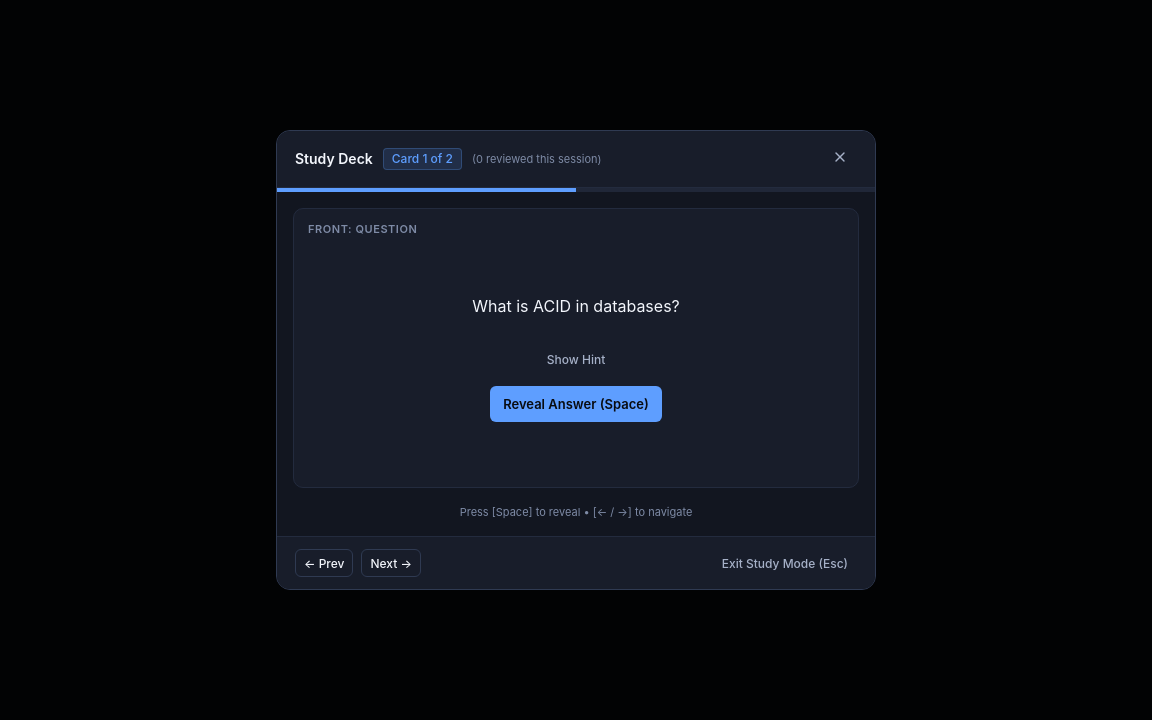
Scenario: Phase 4: Specialized Workspaces Suite › Workspace C: Student Studio & Interactive Flashcard Study Mode › interactively flips flashcards, reveals hints, and rates recall in Study Mode
Check: the text "What is ACID in databases?" is shown, box [472,296,680,316]
Check: the text "Atomicity, Consistency" is not shown
Note: Show hint
Step 1. Click the button "Show Hint" → [576, 360], box [538,346,614,374]
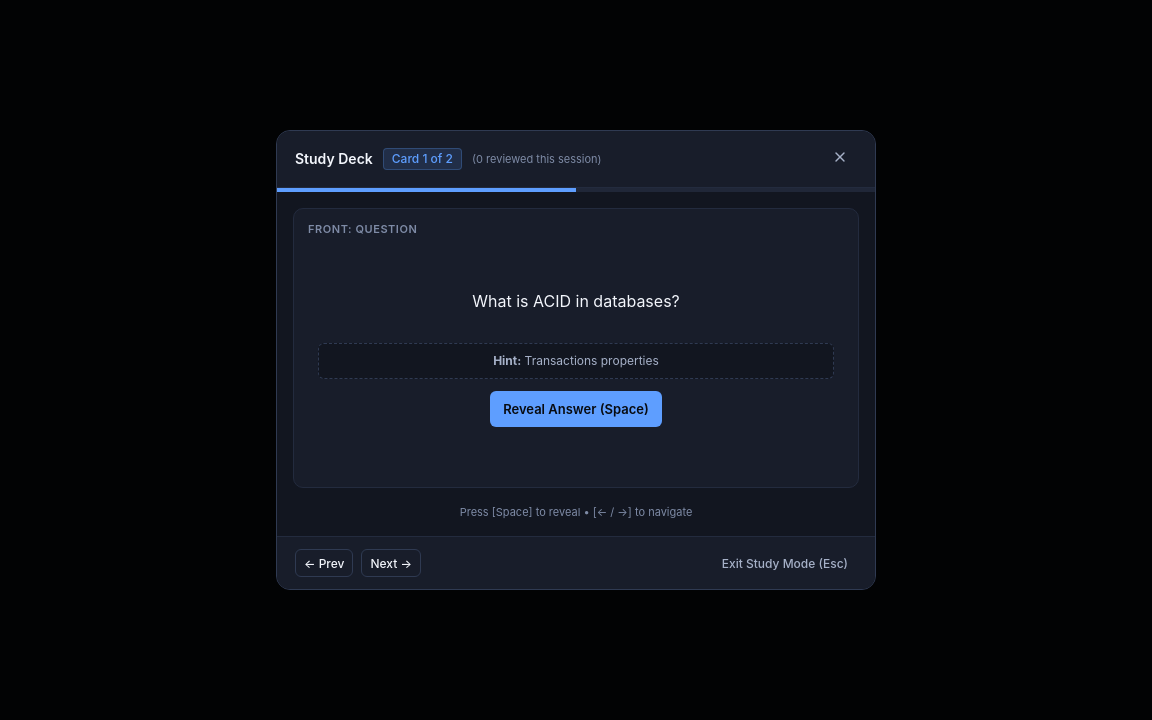
Check: the text "Hint: Transactions properties" is shown, box [318,343,834,379]
Note: Reveal Answer
Step 2. Click the button "Reveal Answer (Space)" → [576, 409], box [490,391,662,427]
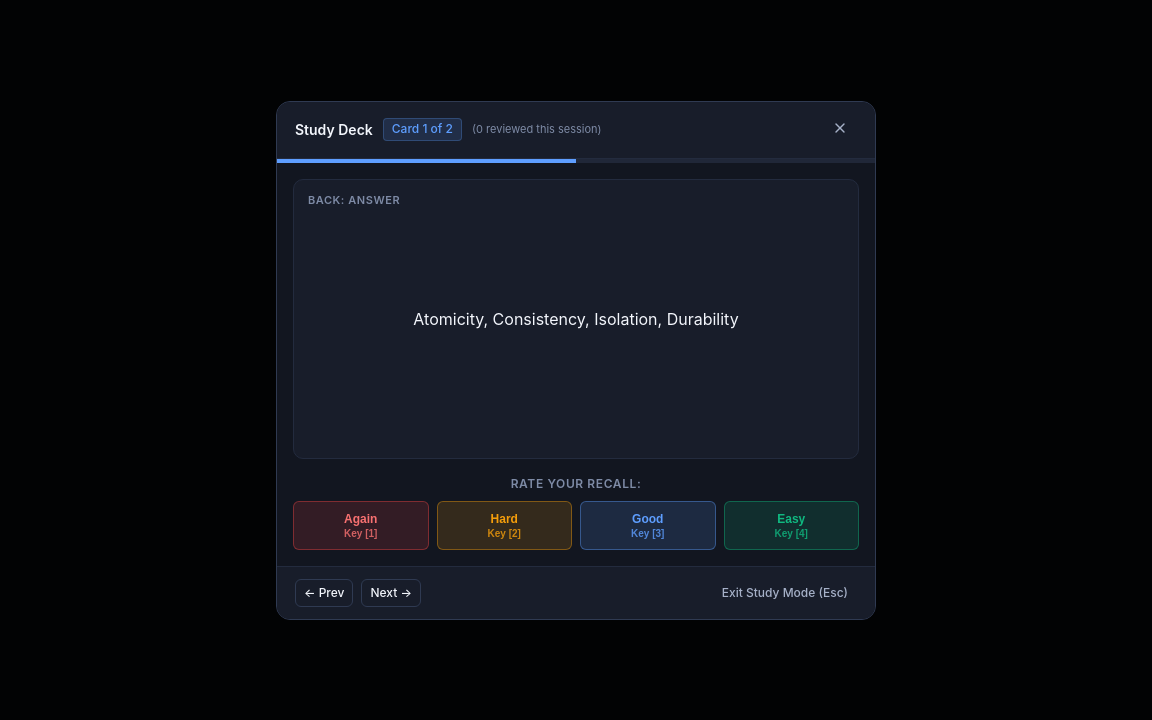
Check: the text "Atomicity, Consistency, Isolation, Durability" is shown, box [413,308,739,328]
Note: Confidence ratings visible
Step 3. Click the button titled "Rate: Good" → [648, 525], box [580,500,716,550]
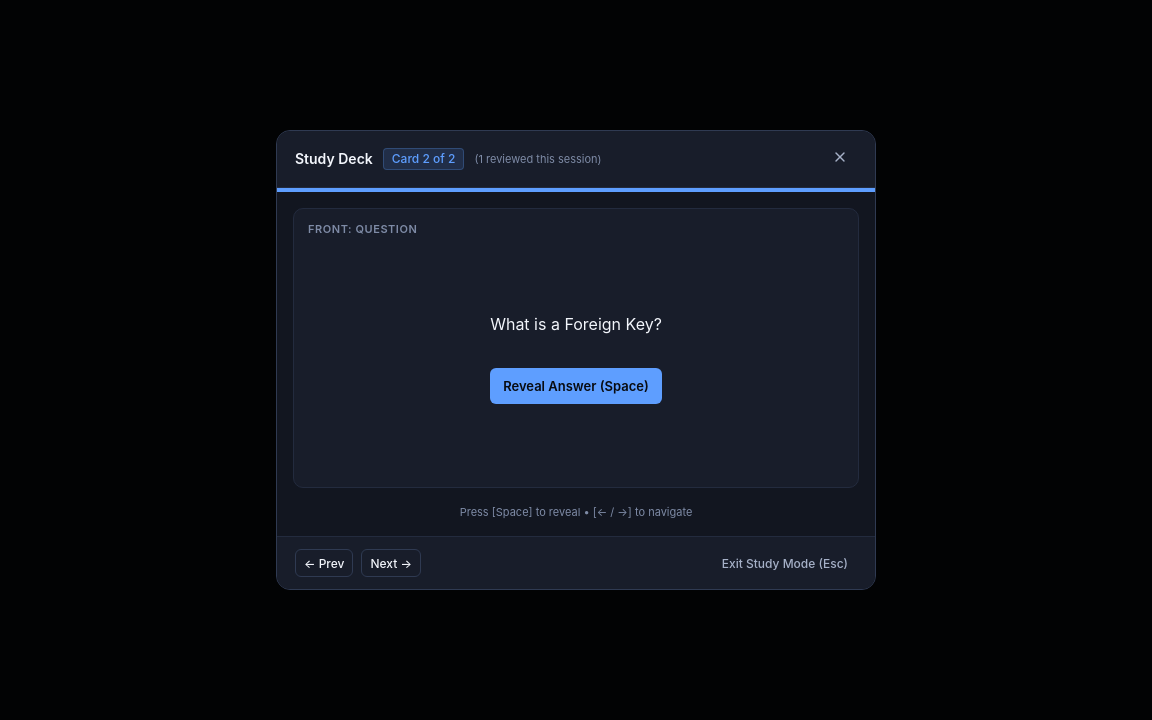
Check: the text "What is a Foreign Key?" is shown, box [490,314,662,334]
Check: the text "Card 2 of 2" is shown, box [383,148,464,170]
